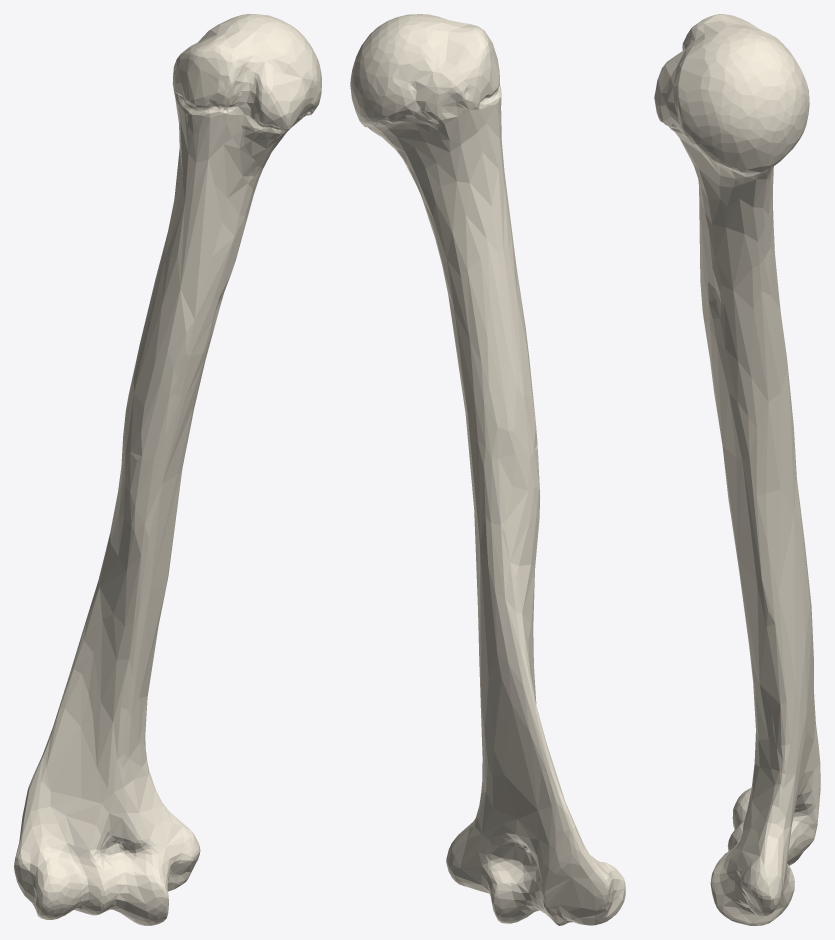
The model's file is arm-bone.glb.
3 renders of one model, left to right at view 1: azimuth 30°, elevation 25°; view 2: azimuth 150°, elevation 25°; view 3: azimuth 270°, elevation 25°, orthographic. The views are drawn at different scales.
Parts seen in each view (by area): view 1: humerus__BP9206; view 2: humerus__BP9206; view 3: humerus__BP9206.
Part boxes in pixels (bbox=[...]): humerus__BP9206: bbox=[14, 14, 321, 925]; humerus__BP9206: bbox=[350, 14, 625, 925]; humerus__BP9206: bbox=[654, 14, 820, 925].
Bounding box in the file's own units: 1.01 × 3.07 × 0.4918.
